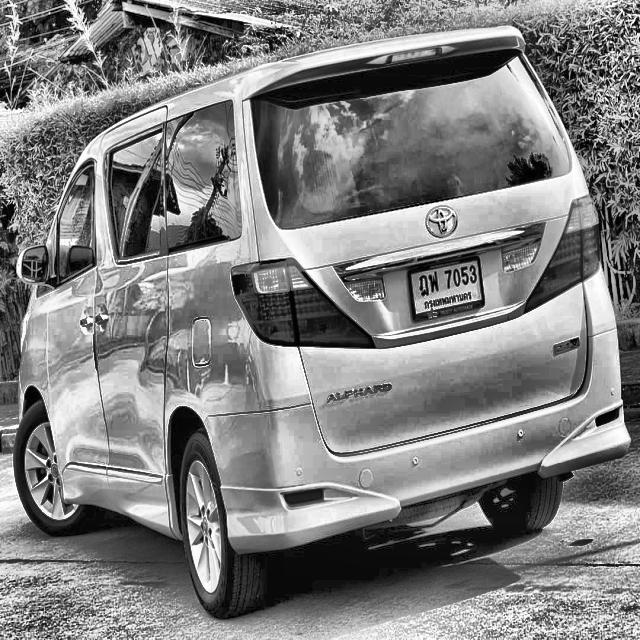license-plate: (406, 250, 487, 322)
